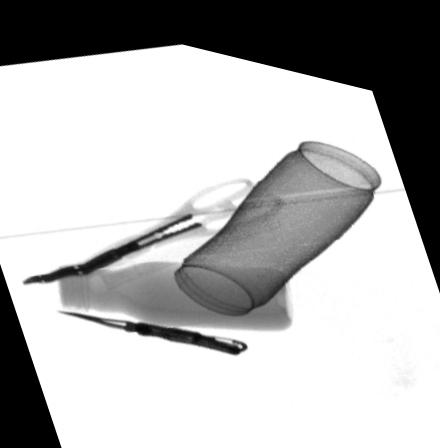Knife: (57, 306, 250, 343)
Scissors: (22, 165, 286, 283)
